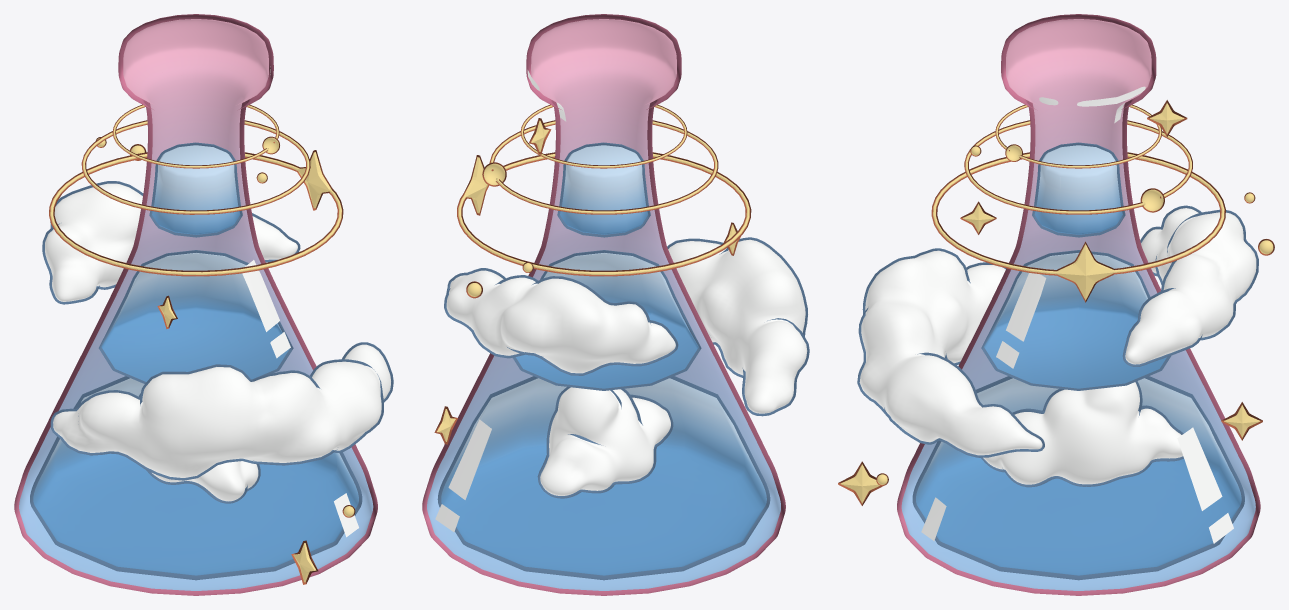
Rendered from potiontest.glb.
3 renders of one model, left to right at view 1: azimuth 30°, elevation 25°; view 2: azimuth 150°, elevation 25°; view 3: azimuth 270°, elevation 25°, orthographic.
Visible parts, largest first — view 1: Circle.006, BezierCurve, BezierCurve.004, BezierCurve.003, BezierCurve.002, BezierCircle.004, Plane, BezierCircle.001, BezierCurve.007, BezierCircle.005; view 2: BezierCurve.004, BezierCurve, Circle.006, Plane, BezierCurve.003, BezierCurve.002, BezierCircle.004, BezierCircle.001, BezierCurve.005, BezierCircle.005; view 3: Circle.006, BezierCurve, BezierCurve.004, BezierCurve.003, Plane, BezierCurve.002, BezierCircle.004, BezierCircle.001, BezierCurve.005, BezierCurve.007, BezierCircle.005, BezierCurve.008 (+1 smaller).
Boxes of the visible parts, <box> form: Circle.006: <box>42,137,393,584</box>; BezierCurve: <box>14,14,377,595</box>; BezierCurve.004: <box>30,376,362,580</box>; BezierCurve.003: <box>98,250,293,383</box>; BezierCurve.002: <box>149,142,242,237</box>; BezierCircle.004: <box>49,150,343,276</box>; Plane: <box>139,393,260,503</box>; BezierCircle.001: <box>81,120,310,214</box>; BezierCurve.007: <box>242,260,290,358</box>; BezierCircle.005: <box>112,104,279,168</box>; BezierCurve.004: <box>437,376,770,580</box>; BezierCurve: <box>422,14,785,595</box>; Circle.006: <box>434,118,809,444</box>; Plane: <box>537,387,673,498</box>; BezierCurve.003: <box>513,250,701,390</box>; BezierCurve.002: <box>557,142,650,237</box>; BezierCircle.004: <box>457,152,751,276</box>; BezierCircle.001: <box>482,120,718,214</box>; BezierCurve.005: <box>435,419,491,531</box>; BezierCircle.005: <box>520,104,687,168</box>; Circle.006: <box>838,100,1274,505</box>; BezierCurve: <box>897,14,1260,595</box>; BezierCurve.004: <box>912,376,1244,580</box>; BezierCurve.003: <box>981,250,1170,390</box>; Plane: <box>981,381,1183,487</box>; BezierCurve.002: <box>1032,142,1125,237</box>; BezierCircle.004: <box>931,152,1225,302</box>; BezierCircle.001: <box>964,120,1192,214</box>; BezierCurve.005: <box>1177,427,1233,543</box>; BezierCurve.007: <box>996,273,1046,368</box>; BezierCircle.005: <box>995,104,1162,168</box>; BezierCurve.008: <box>1039,86,1145,106</box>.
Bounding box in the file's own units: 2.2 × 3.23 × 2.62.
3 materials, 1 textured.
